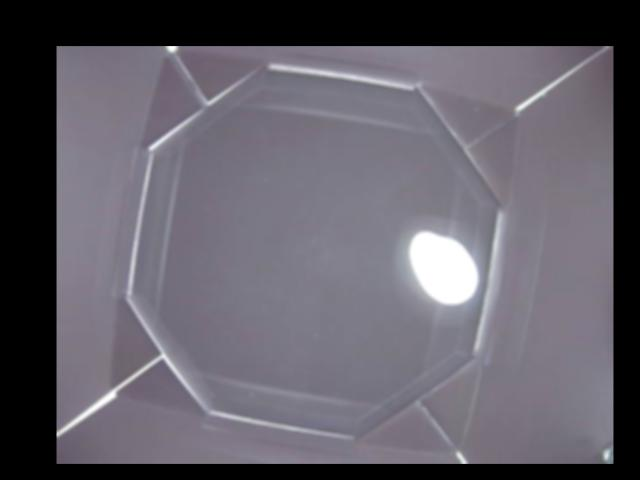Pebble: (409, 230, 475, 307)
